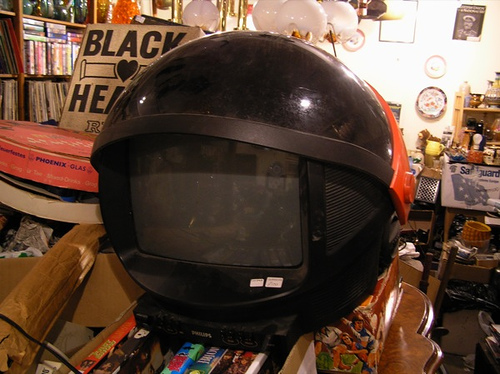helmet: (111, 38, 412, 202)
